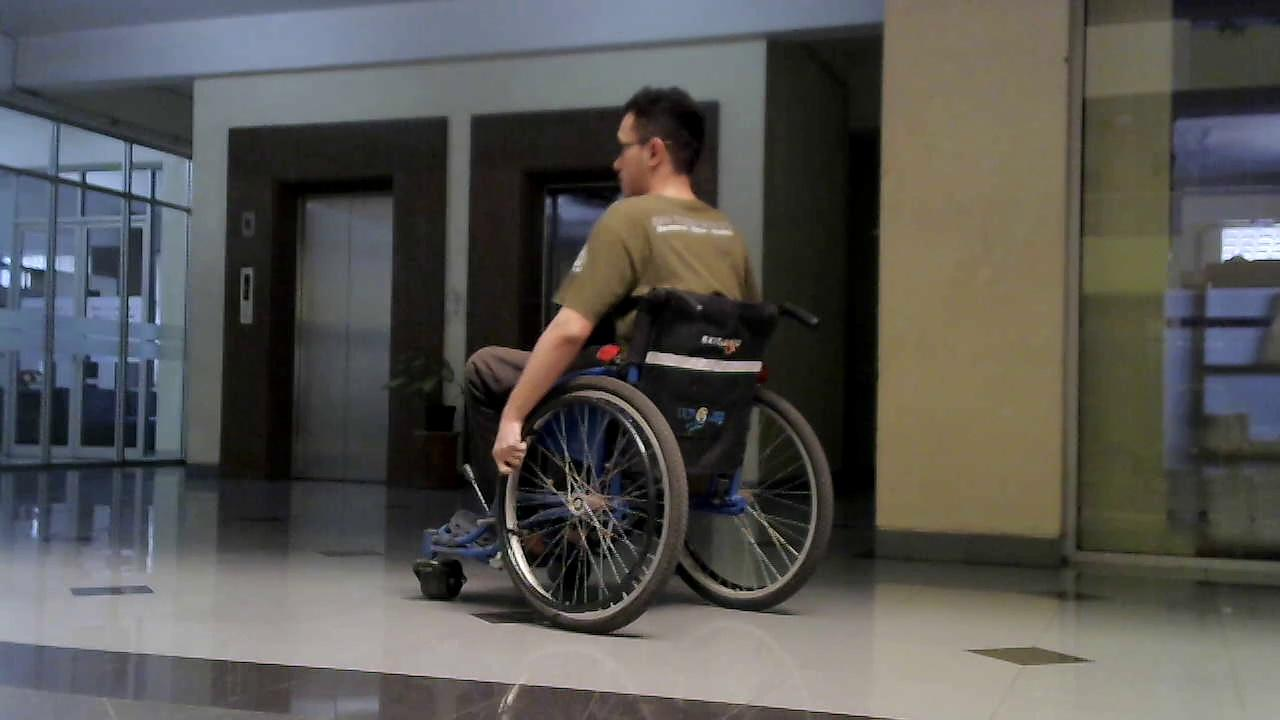person: (428, 83, 759, 558)
wheelchair: (398, 283, 845, 663)
